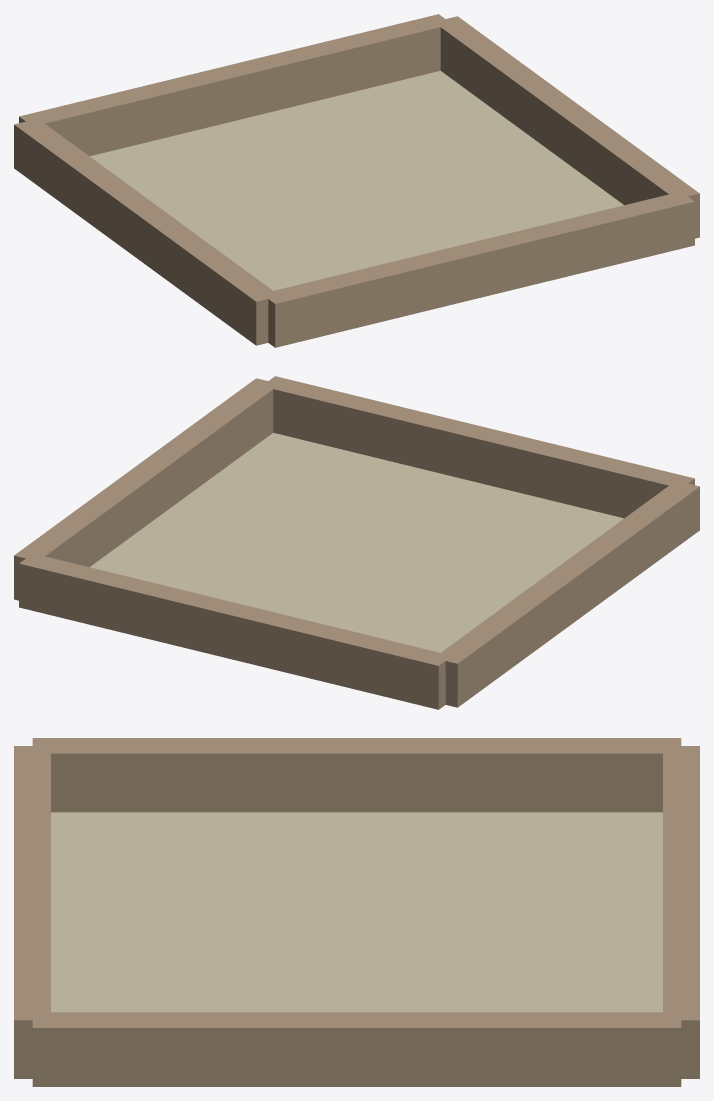
File: sandbox.glb
3 views of the same model, one above another, from view 1: azimuth 30°, elevation 25°; view 2: azimuth 150°, elevation 25°; view 3: azimuth 270°, elevation 25° (orthographic). The views are drawn at different scales.
Parts seen in each view (by area): view 1: sandbox; view 2: sandbox; view 3: sandbox.
Boxes of the visible parts, bbox=[...] form: sandbox: bbox=[14, 14, 699, 347]; sandbox: bbox=[14, 376, 699, 709]; sandbox: bbox=[14, 738, 699, 1086].
Bounding box in the file's own units: 2.96 × 0.28 × 2.96.
